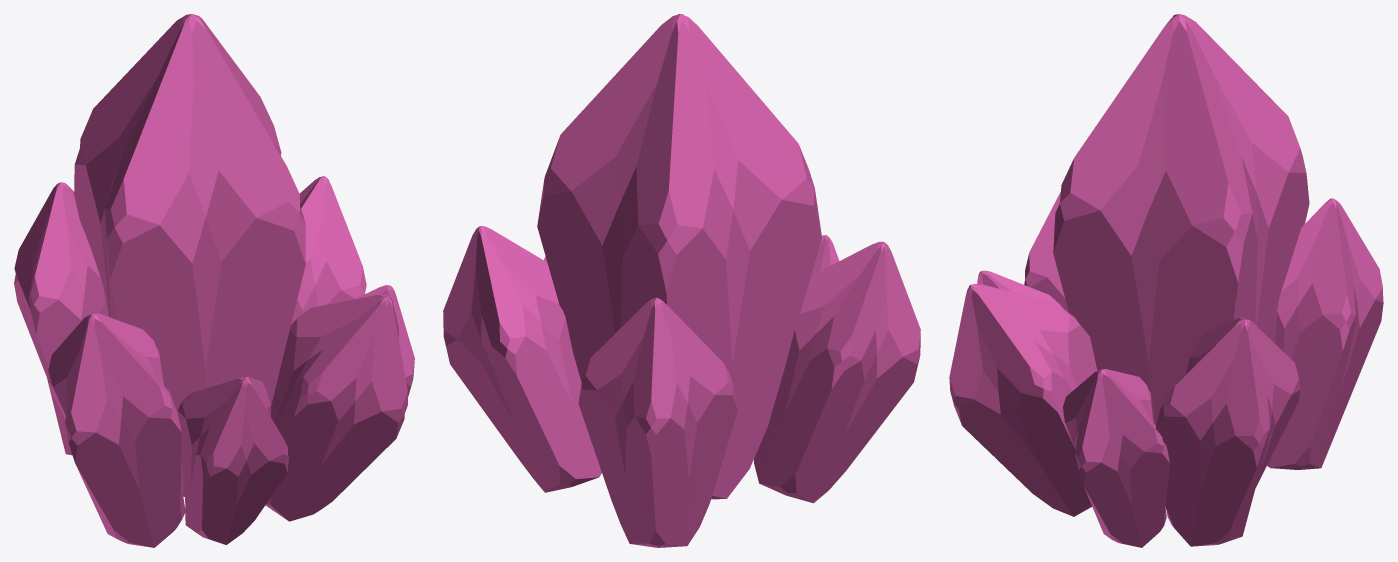
The model's file is RewardShard.fbx.
3 views of the same model, side by side, from view 1: azimuth 30°, elevation 25°; view 2: azimuth 150°, elevation 25°; view 3: azimuth 270°, elevation 25° (orthographic).
Visible parts, largest first — view 1: crystal large, shard 4, shard 1, shard 4.002, shard 3, shard 2, shard 4.001; view 2: crystal large, shard 3, shard 1, shard 2, shard 4.002; view 3: crystal large, shard 4, shard 2, shard 3, shard 4.001, shard 1, shard 4.002.
Boxes of the visible parts, x1,y1,x2,y2 form: crystal large: (74, 14, 305, 496); shard 4: (265, 294, 407, 521); shard 1: (48, 313, 185, 547); shard 4.002: (177, 377, 288, 544); shard 3: (14, 182, 108, 455); shard 2: (291, 176, 366, 324); shard 4.001: (355, 285, 414, 396); crystal large: (537, 14, 821, 499); shard 3: (578, 297, 737, 547); shard 1: (754, 241, 920, 503); shard 2: (443, 226, 601, 492); shard 4.002: (811, 235, 839, 275); crystal large: (1053, 14, 1309, 425); shard 4: (949, 284, 1097, 516); shard 2: (1155, 317, 1300, 546); shard 3: (1267, 198, 1383, 469); shard 4.001: (1063, 369, 1169, 547); shard 1: (1024, 191, 1068, 312); shard 4.002: (977, 270, 1062, 307).
Size of the model in its own units: 1501 by 1837 by 1511.
